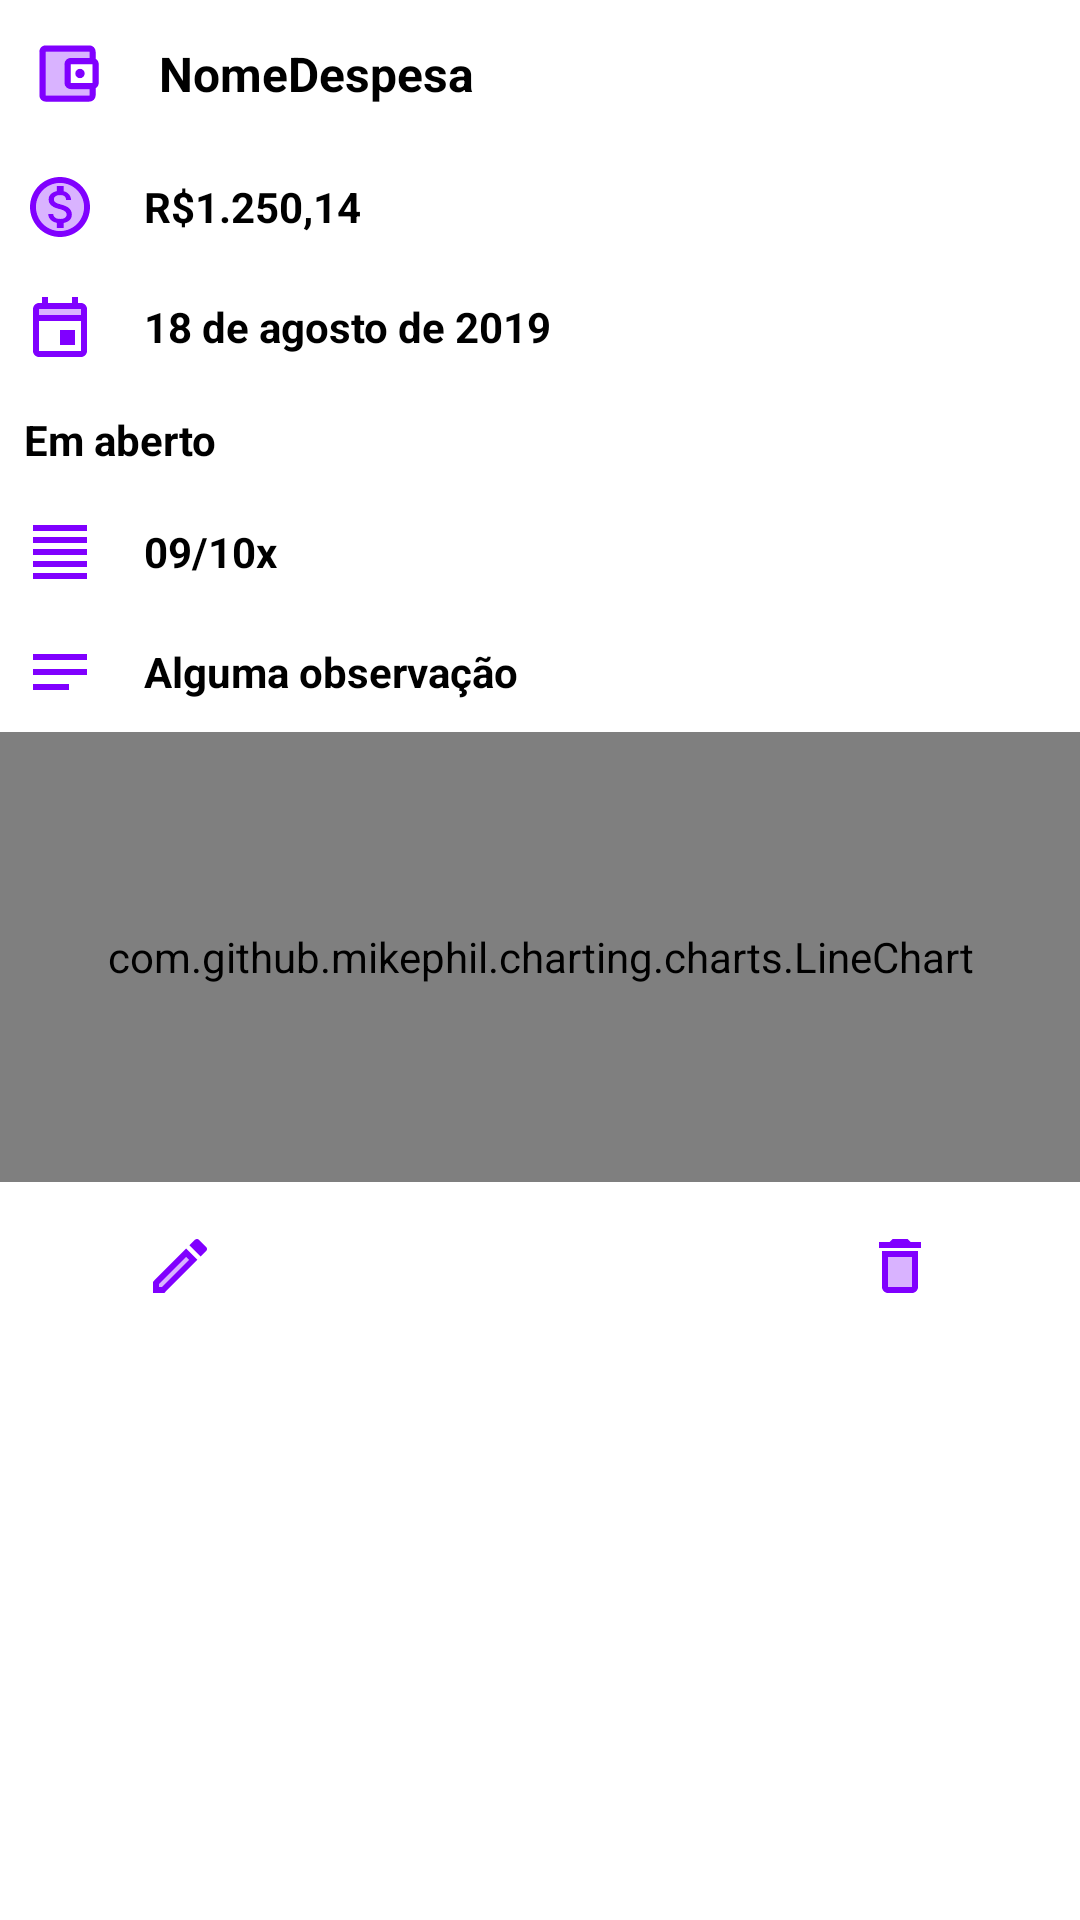

Screen size 1080×1920. Icon name, then its center in pixels as point (x, y):
editar: point (180, 1266)
remover: point (900, 1266)
